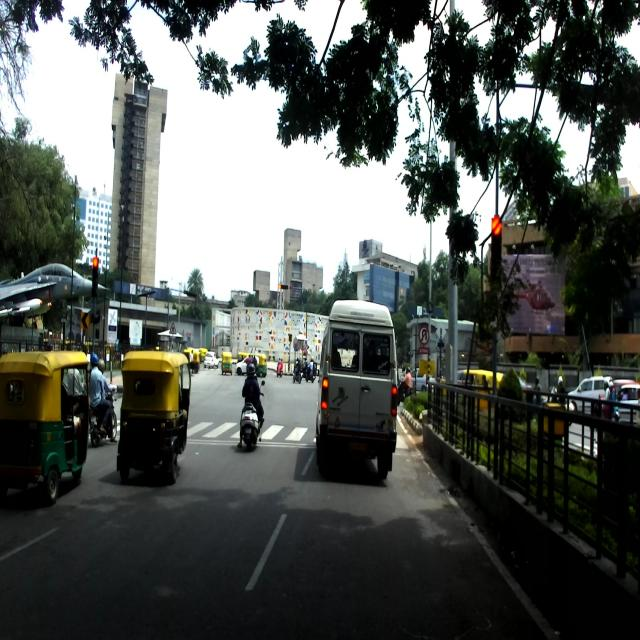autorickshaw: (0, 349, 91, 501), (117, 350, 194, 481)
mini-bus: (316, 298, 398, 484)
scooter: (238, 379, 264, 451)
